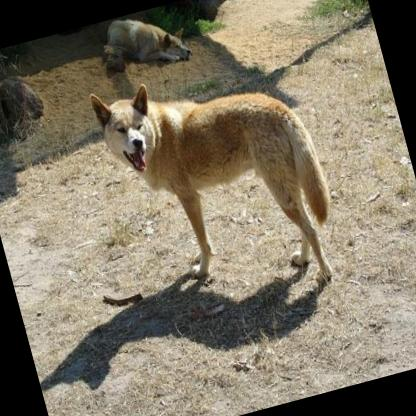dingo: (87, 38, 350, 330)
